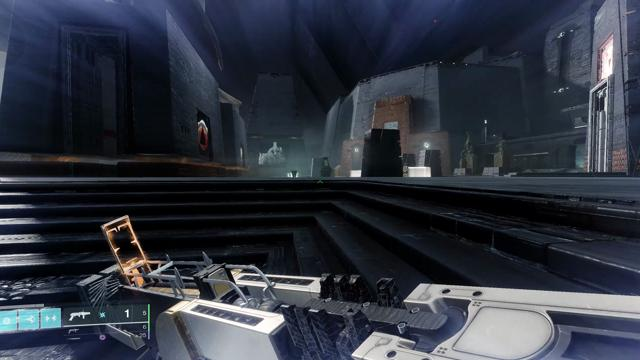pyramid: (198, 120, 209, 151)
